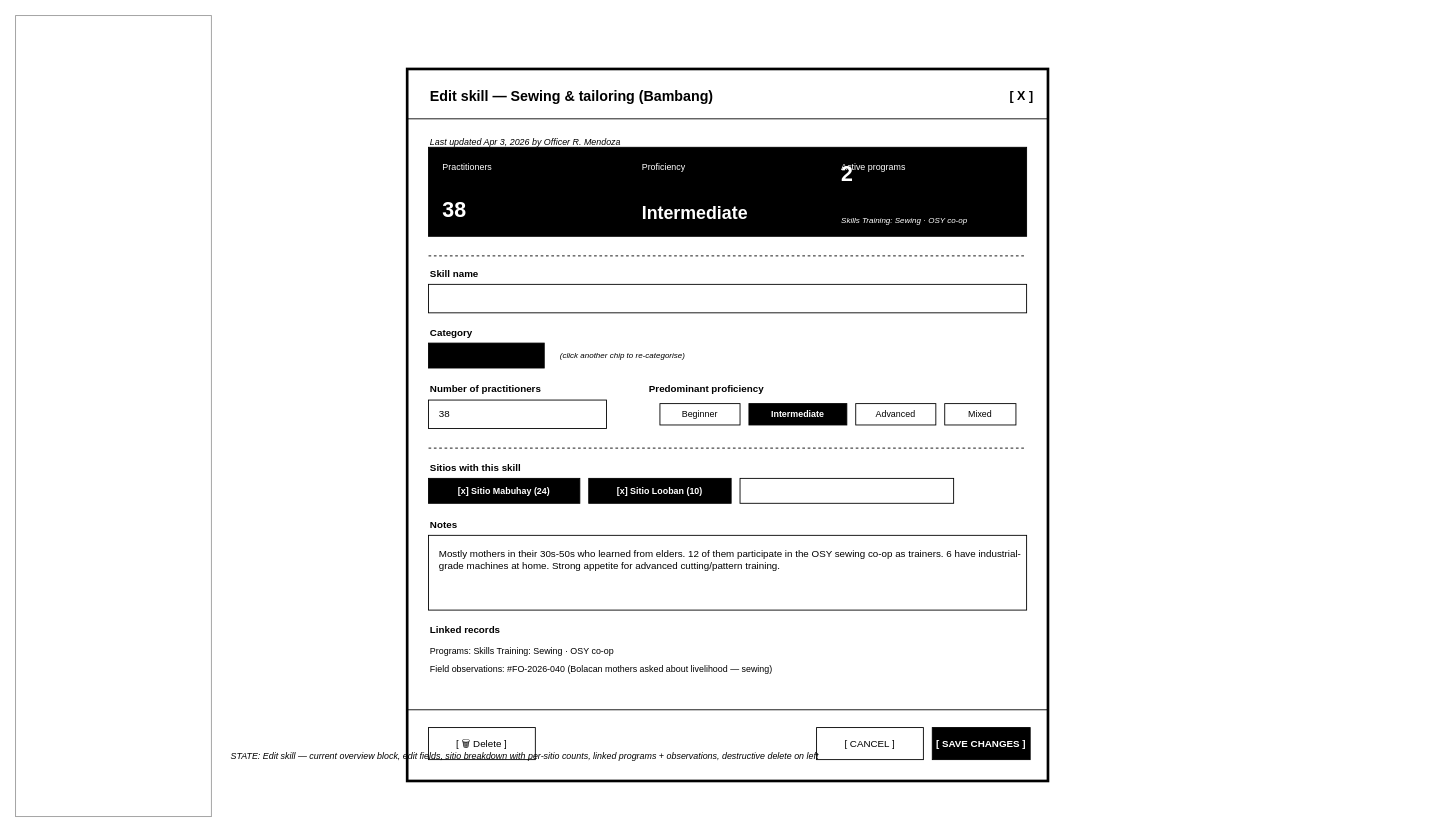
This 1437x832 diagram has some shape labels left out. The shapes that lost their labels are listed below. From the top down, each one's centre as x and y in pixels, then its label:
At [727,298]: "Sewing & tailoring".
At [486,355]: "Trade & Craft".
At [113,416]: "AGAPE".
At [846,490]: "[ ] Sitio Riverside (4 unconfirmed)".
